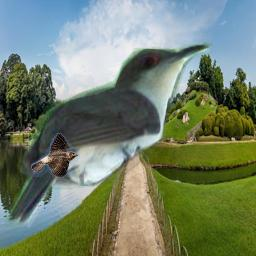Cuckoo: (5, 42, 213, 229)
Swallow: (31, 133, 80, 177)
